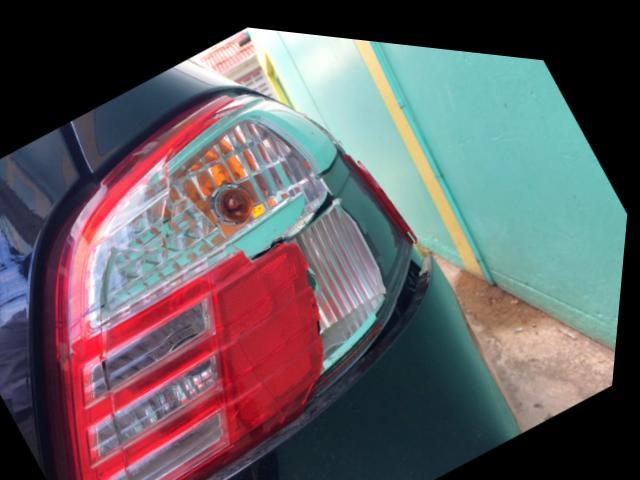lamp broken: (49, 83, 417, 480)
